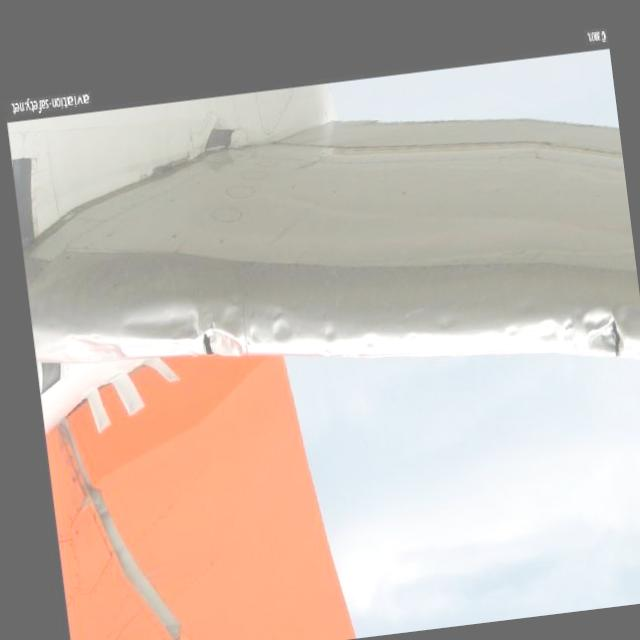dent: (56, 240, 634, 430)
